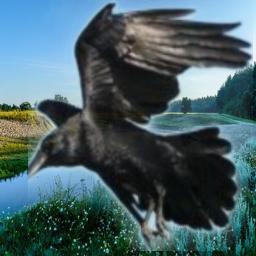Crow: (28, 0, 253, 251)
